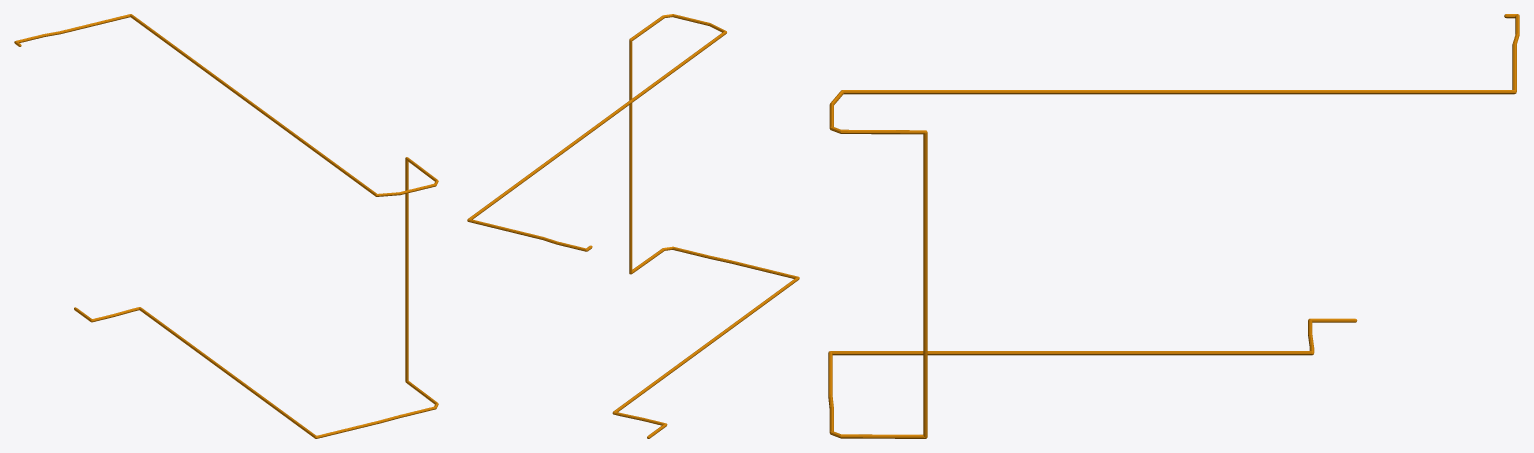
The picture shows the model from 3 angles, left to right: view 1: azimuth 30°, elevation 25°; view 2: azimuth 150°, elevation 25°; view 3: azimuth 270°, elevation 25°; orthographic projection. The views are drawn at different scales.
Size of the model in its own units: 1248 by 1520 by 3087.
